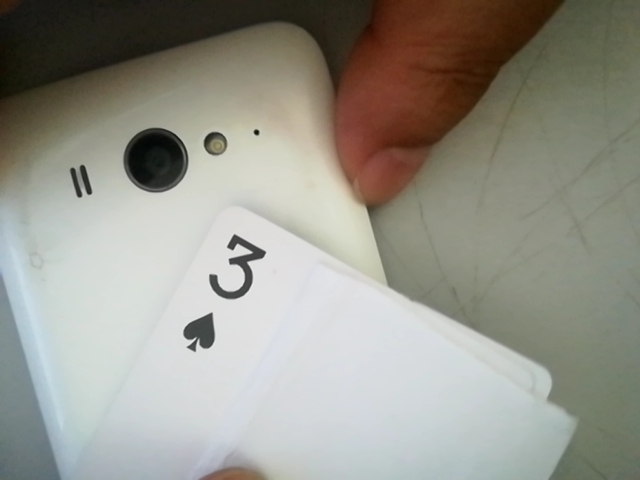ht 3: (177, 222, 278, 361)
